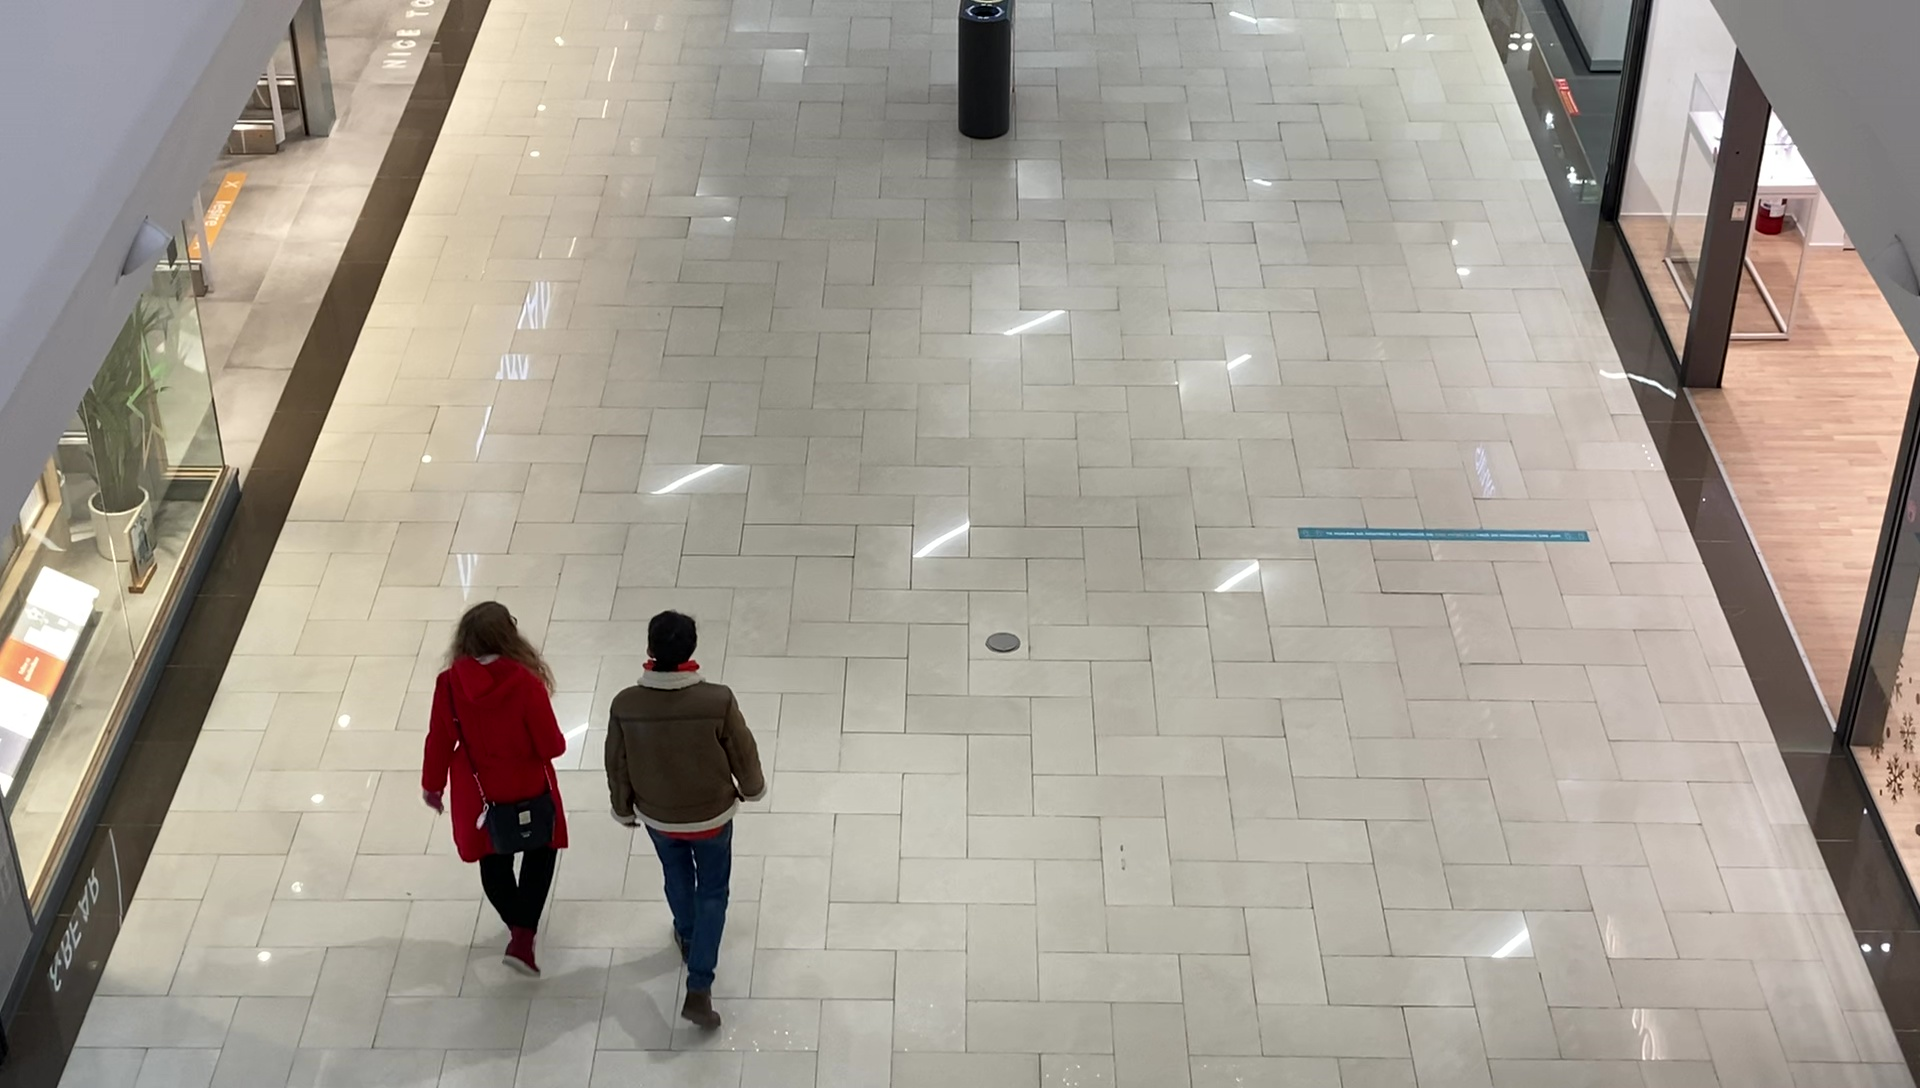person: (603, 611, 765, 1034), (422, 600, 569, 980)
